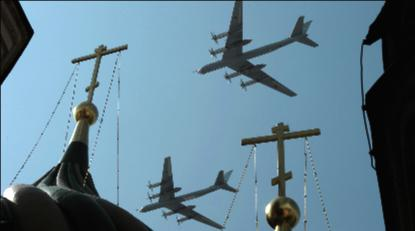Su57: (191, 1, 320, 97), (136, 156, 238, 230)
